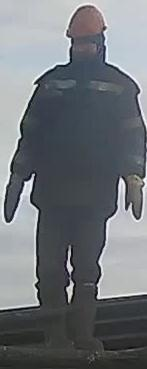gloves: (3, 166, 29, 225), (119, 167, 145, 221)
helmet: (66, 4, 107, 38)
vest: (24, 62, 144, 214)
